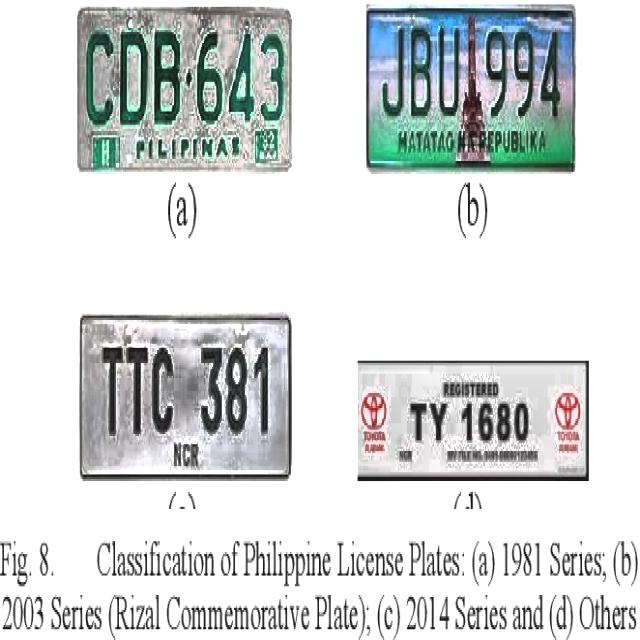license-plate: (369, 9, 577, 173), (83, 319, 291, 477), (356, 361, 590, 482)
